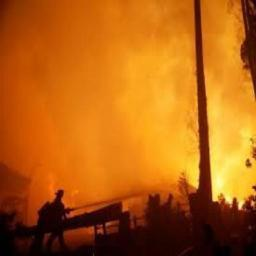Heavy smoke: (3, 3, 254, 198)
